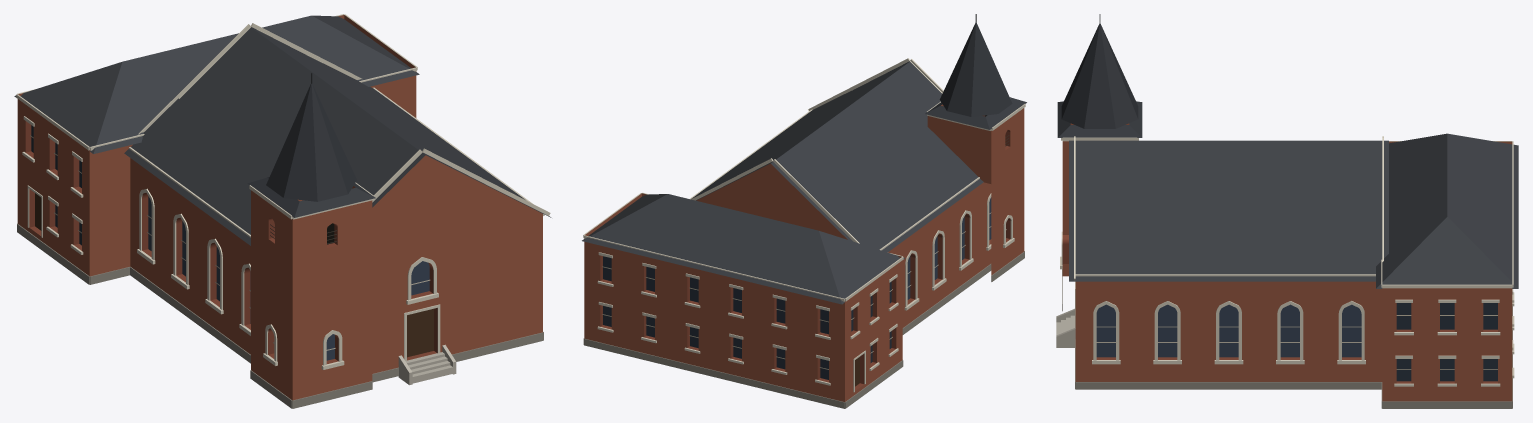
The model's file is ch-first-methodist-nlr-1913.glb.
3 renders of one model, left to right at view 1: azimuth 30°, elevation 25°; view 2: azimuth 150°, elevation 25°; view 3: azimuth 270°, elevation 25°, orthographic. The views are drawn at different scales.
Visible parts, largest first — view 1: ch_brick, ch_roof, ch_trim, ch_roof2, ch_base, ch_brick2, ch_conc, ch_stain, ch_door; view 2: ch_brick, ch_roof, ch_trim, ch_roof2, ch_base, ch_brick2, ch_glass, ch_stain; view 3: ch_roof, ch_brick, ch_trim, ch_roof2, ch_stain, ch_base, ch_glass, ch_brick2, ch_conc.
Boxes of the visible parts, box(x1,y1,x2,y2) form: ch_brick: box(17, 15, 542, 400); ch_roof: box(14, 15, 551, 245); ch_trim: box(16, 14, 550, 369); ch_roof2: box(247, 83, 375, 217); ch_base: box(17, 223, 543, 408); ch_brick2: box(25, 121, 437, 363); ch_conc: box(398, 344, 456, 385); ch_stain: box(148, 196, 429, 360); ch_door: box(35, 193, 433, 357); ch_brick: box(584, 104, 1024, 401); ch_roof: box(582, 61, 983, 304); ch_trim: box(583, 58, 1025, 392); ch_roof2: box(925, 22, 1026, 129); ch_base: box(583, 251, 1024, 408); ch_brick2: box(600, 129, 1010, 390); ch_glass: box(603, 256, 891, 379); ch_stain: box(907, 197, 991, 299); ch_roof: box(1069, 133, 1518, 288); ch_brick: box(1062, 123, 1512, 401); ch_trim: box(1060, 136, 1514, 386); ch_roof2: box(1057, 24, 1142, 137); ch_stain: box(1096, 304, 1361, 357); ch_base: box(1062, 269, 1512, 408); ch_glass: box(1396, 303, 1497, 381); ch_brick2: box(1062, 235, 1497, 383); ch_conc: box(1056, 308, 1075, 347).
Bounding box in the file's own units: 21.14 × 19.1 × 28.5.
